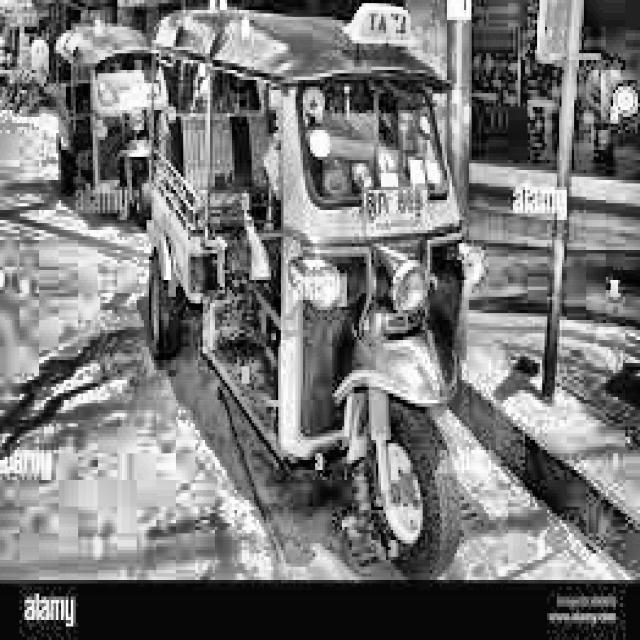license-plate: (350, 180, 437, 250)
